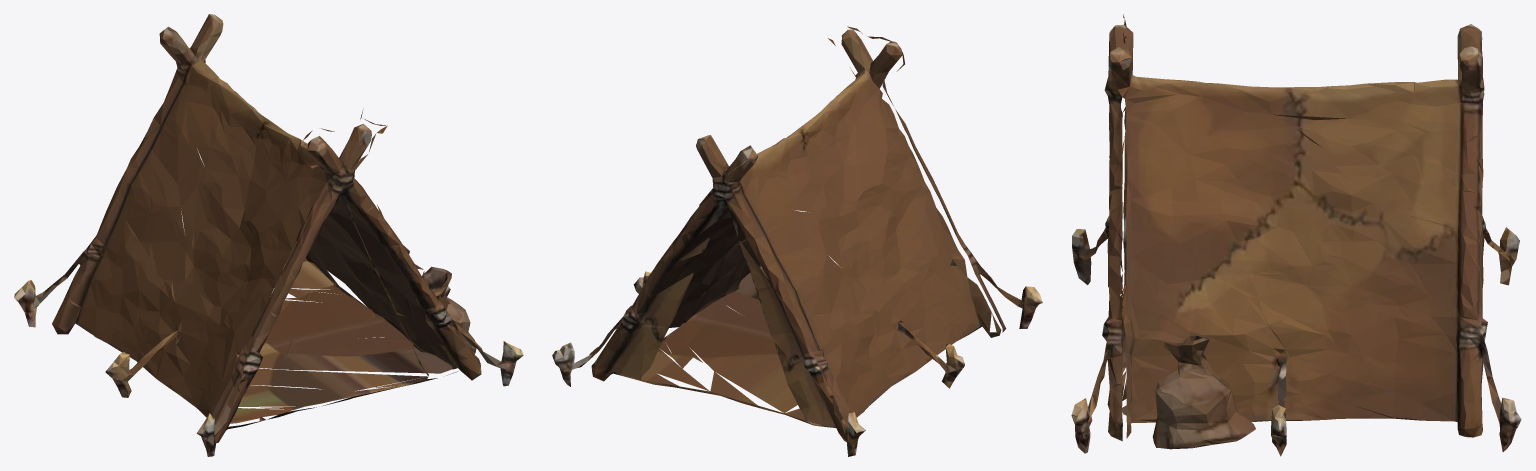
File: tent_hide_b.glb
The picture shows the model from 3 angles, left to right: view 1: azimuth 30°, elevation 25°; view 2: azimuth 150°, elevation 25°; view 3: azimuth 270°, elevation 25°; orthographic projection. The views are drawn at different scales.
Visible parts, largest first — view 1: geometry_0; view 2: geometry_0; view 3: geometry_0.
Boxes of the visible parts, <box> form: geometry_0: <box>14,14,523,456</box>; geometry_0: <box>552,26,1042,456</box>; geometry_0: <box>1071,14,1521,456</box>.
Bounding box in the file's own units: 2.8 × 2.32 × 2.7.
Materials: 1 (1 with a texture image).
